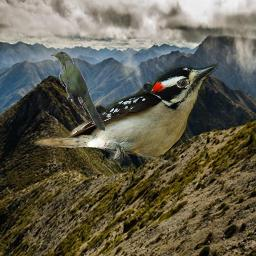Cuckoo: (51, 51, 108, 132)
Woodpecker: (34, 60, 218, 165)
